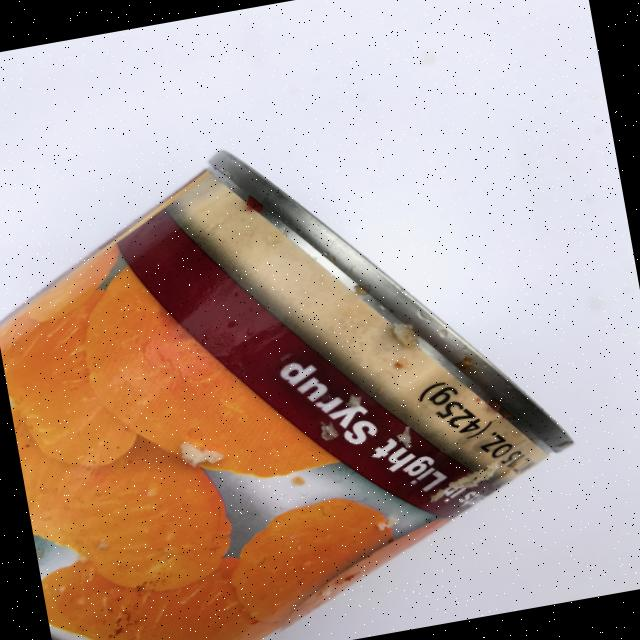metal: (0, 96, 601, 640)
